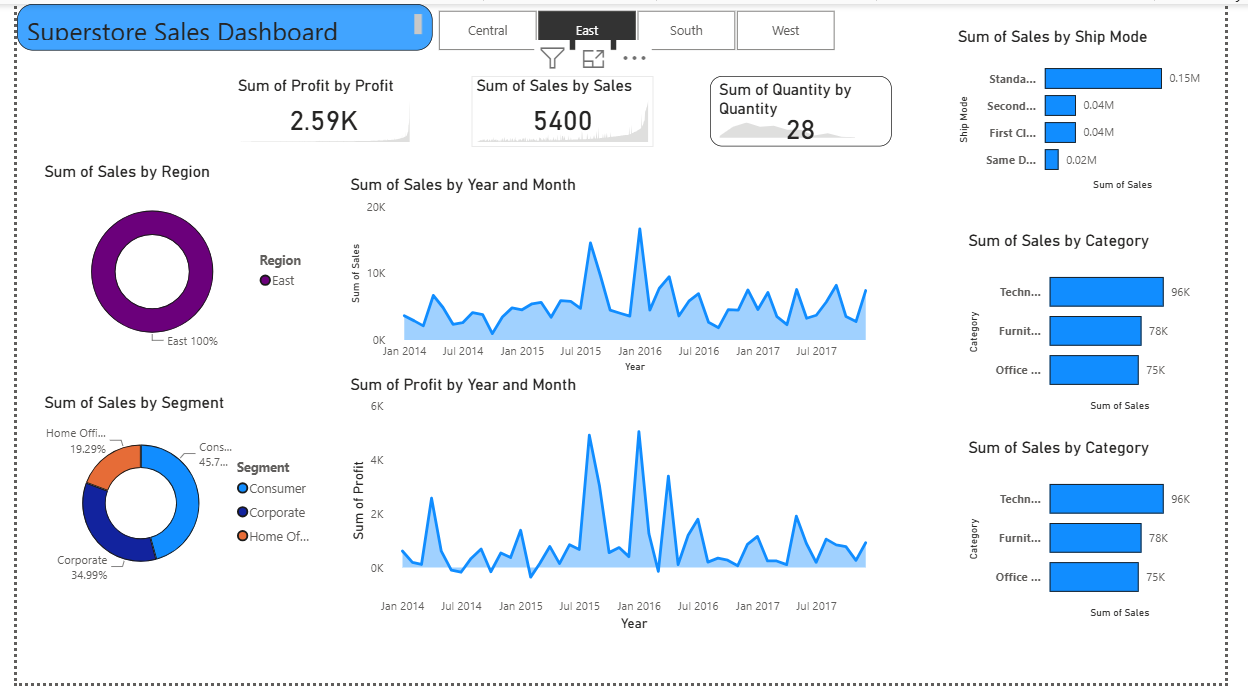

Layout of this report page (visuals, bound fields, positions):
{"tool":"powerbi","page":{"name":"Page 1","canvas":[1280,720],"ordinal":0},"visuals":[{"type":"clusteredBarChart","fields":{"Category":["Sample - Superstore.Category"],"Y":["Sum(Sample - Superstore.Sales)"]},"box":[1003.7,240.2,245,195.6],"z":0},{"type":"donutChart","fields":{"Y":["Sum(Sample - Superstore.Sales)"],"Category":["Sample - Superstore.Segment"]},"box":[23.9,412,302.2,214.7],"z":1000},{"type":"clusteredBarChart","fields":{"Y":["Sum(Sample - Superstore.Sales)"],"Category":["Sample - Superstore.Ship Mode"]},"box":[992.5,23.9,267.2,178.1],"z":2000},{"type":"stackedAreaChart","fields":{"Y":["Sum(Sample - Superstore.Sales)"],"Category":["Sample - Superstore.Order Date.Variation.Date Hierarchy.Year","Sample - Superstore.Order Date.Variation.Date Hierarchy.Month"]},"box":[347.7,181.4,578.3,213.5],"z":3000},{"type":"stackedAreaChart","fields":{"Category":["Sample - Superstore.Order Date.Variation.Date Hierarchy.Year","Sample - Superstore.Order Date.Variation.Date Hierarchy.Month"],"Y":["Sum(Sample - Superstore.Profit)"]},"box":[347.7,393.1,578.3,275.9],"z":4000},{"type":"donutChart","fields":{"Y":["Sum(Sample - Superstore.Sales)"],"Category":["Sample - Superstore.Region"]},"box":[24.6,166.3,302.4,213.5],"z":5000},{"type":"slicer","fields":{"Values":["Sample - Superstore.Region"]},"box":[421.5,0,469.2,55.7],"z":6000},{"type":"kpi","fields":{"Indicator":["Sum(Sample - Superstore.Profit)"],"TrendLine":["Sample - Superstore.Profit"]},"box":[229,76.3,192.5,74.8],"z":7000},{"type":"kpi","fields":{"Indicator":["Sum(Sample - Superstore.Sales)"],"TrendLine":["Sample - Superstore.Sales"]},"box":[482,76.3,192.5,74.8],"z":8000},{"type":"kpi","fields":{"Indicator":["Sum(Sample - Superstore.Quantity)"],"TrendLine":["Sample - Superstore.Quantity"]},"box":[734.9,76.3,192.5,74.8],"z":9000},{"type":"clusteredBarChart","fields":{"Y":["Sum(Sample - Superstore.Sales)"],"Category":["Sample - Superstore.Category"]},"box":[1003.7,459.7,245,195.6],"z":10000},{"type":"textbox","box":[0,0,440.6,49.3],"z":11000}]}

Visuals, with their boxes in screenshot pixels (x1, y1, x2, y2), scaled from the page's 1280x720 canvas onto the 1248x692 screenshot:
clusteredBarChart - Sample - Superstore.Category x Sum(Sample - Superstore.Sales): [left=979, top=231, right=1217, bottom=419]
donutChart - Sum(Sample - Superstore.Sales) x Sample - Superstore.Segment: [left=23, top=396, right=318, bottom=602]
clusteredBarChart - Sum(Sample - Superstore.Sales) x Sample - Superstore.Ship Mode: [left=968, top=23, right=1228, bottom=194]
stackedAreaChart - Sum(Sample - Superstore.Sales) x Sample - Superstore.Order Date.Variation.Date Hierarchy.Year: [left=339, top=174, right=903, bottom=380]
stackedAreaChart - Sample - Superstore.Order Date.Variation.Date Hierarchy.Year x Sample - Superstore.Order Date.Variation.Date Hierarchy.Month: [left=339, top=378, right=903, bottom=643]
donutChart - Sum(Sample - Superstore.Sales) x Sample - Superstore.Region: [left=24, top=160, right=319, bottom=365]
slicer - Sample - Superstore.Region: [left=411, top=0, right=868, bottom=54]
kpi - Sum(Sample - Superstore.Profit) x Sample - Superstore.Profit: [left=223, top=73, right=411, bottom=145]
kpi - Sum(Sample - Superstore.Sales) x Sample - Superstore.Sales: [left=470, top=73, right=658, bottom=145]
kpi - Sum(Sample - Superstore.Quantity) x Sample - Superstore.Quantity: [left=717, top=73, right=904, bottom=145]
clusteredBarChart - Sum(Sample - Superstore.Sales) x Sample - Superstore.Category: [left=979, top=442, right=1217, bottom=630]
textbox: [left=0, top=0, right=430, bottom=47]
